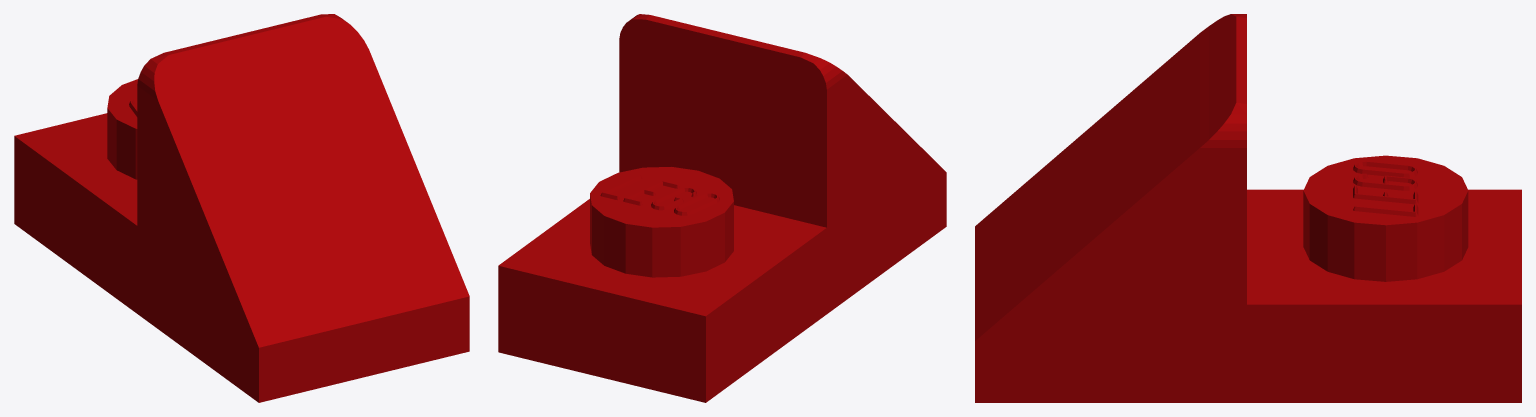
Rendered from 15672 roof tile 1x2.dae.
The picture shows the model from 3 angles, left to right: view 1: azimuth 30°, elevation 25°; view 2: azimuth 150°, elevation 25°; view 3: azimuth 270°, elevation 25°; orthographic projection. The views are drawn at different scales.
Parts seen in each view (by area): view 1: Part_15672.1; view 2: Part_15672.1; view 3: Part_15672.1.
Boxes of the visible parts, x1=… form: Part_15672.1: x1=14, y1=14, x2=469, y2=402; Part_15672.1: x1=498, y1=14, x2=946, y2=402; Part_15672.1: x1=975, y1=14, x2=1521, y2=402.
Bounding box in the file's own units: 7.92 × 9.18 × 15.92.
